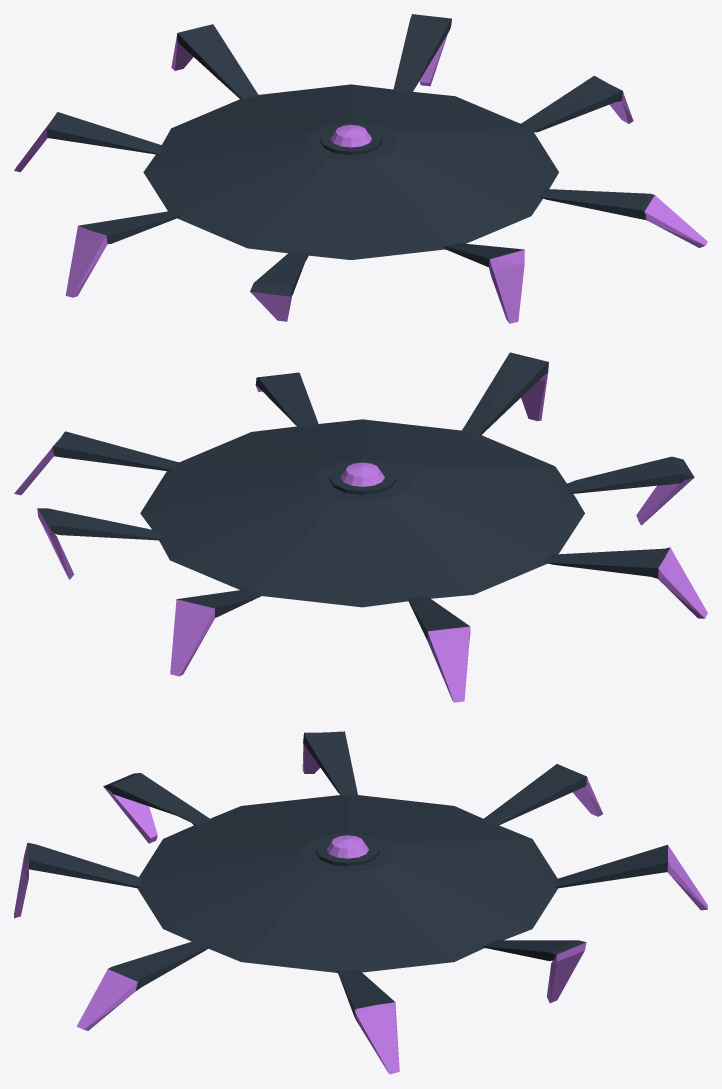
Rendered from Spider_Walk_000017.obj.
3 views of the same model, one above another, from view 1: azimuth 30°, elevation 25°; view 2: azimuth 150°, elevation 25°; view 3: azimuth 270°, elevation 25° (orthographic). The views are drawn at different scales.
Visible parts, largest first — view 1: Circle_Circle.001; view 2: Circle_Circle.001; view 3: Circle_Circle.001.
Boxes of the visible parts, x1,y1,x2,y2 form: Circle_Circle.001: (14, 14, 707, 323); Circle_Circle.001: (14, 352, 707, 702); Circle_Circle.001: (14, 731, 707, 1074).
Bounding box in the file's own units: 3.36 × 0.4396 × 3.25.
